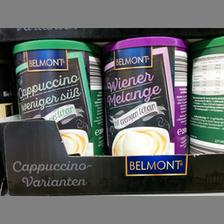Kaffee: (10, 37, 102, 154), (100, 35, 188, 155)
